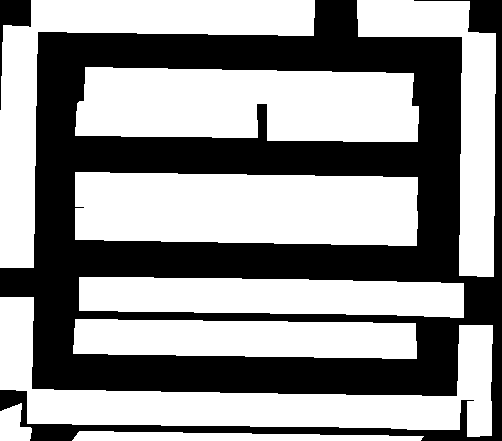parkingspot: (27, 389, 460, 429), (79, 277, 463, 317), (73, 319, 416, 358), (75, 172, 417, 211), (75, 207, 417, 245), (84, 67, 413, 105), (31, 0, 314, 35), (0, 25, 37, 267), (459, 32, 495, 276), (75, 101, 257, 137), (267, 103, 418, 141), (357, 0, 469, 36), (72, 431, 423, 441), (0, 297, 33, 390), (457, 325, 492, 400), (0, 403, 31, 441), (467, 401, 491, 436)
